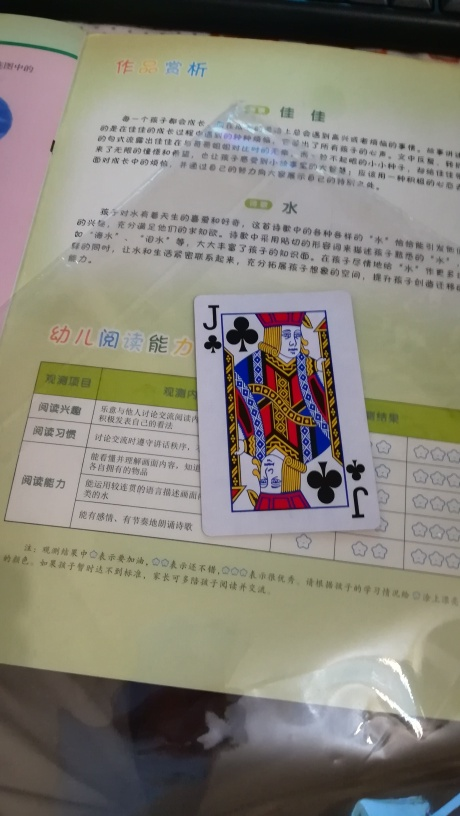mh j: (190, 289, 380, 538)
